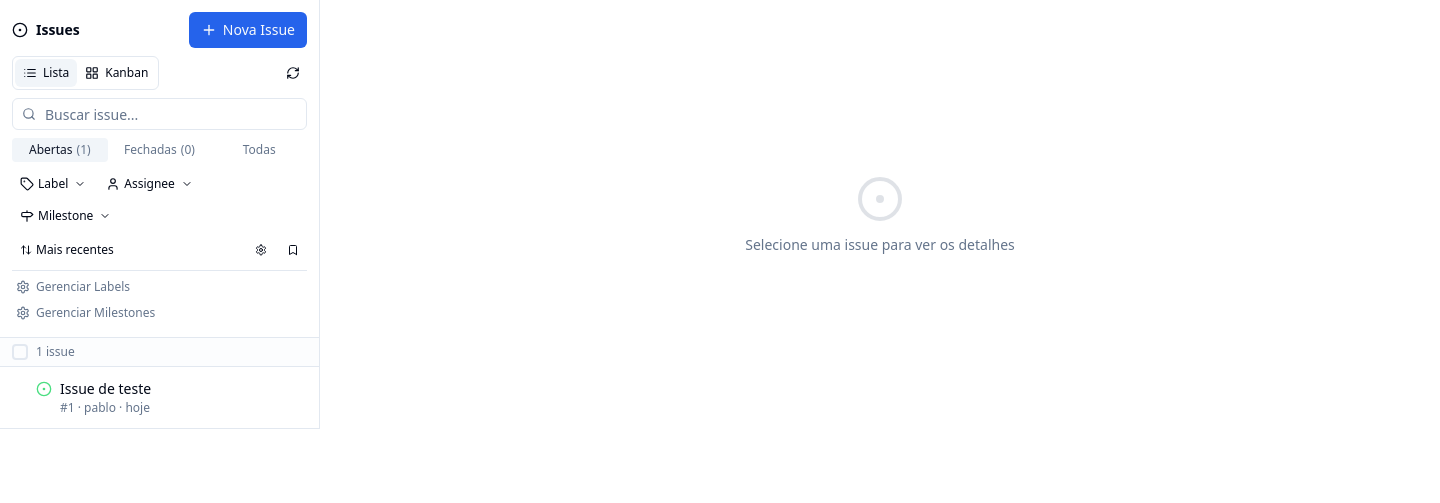
Test case: IssuesManager › seleção de issue › issue sem descrição exibe texto de placeholder
Click the text "Issue de teste": x=106, y=389 top-left (60, 379), bottom-right (151, 398)
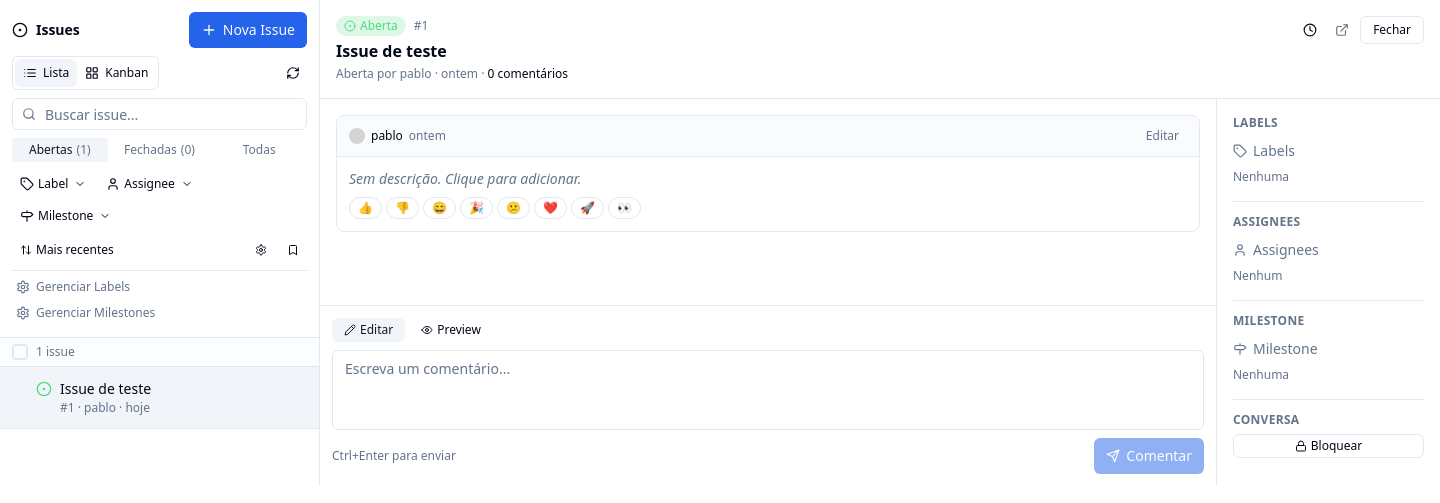
Now the text "Sem descrição. Clique para adicionar." is shown, box top-left (349, 169), bottom-right (581, 188)
